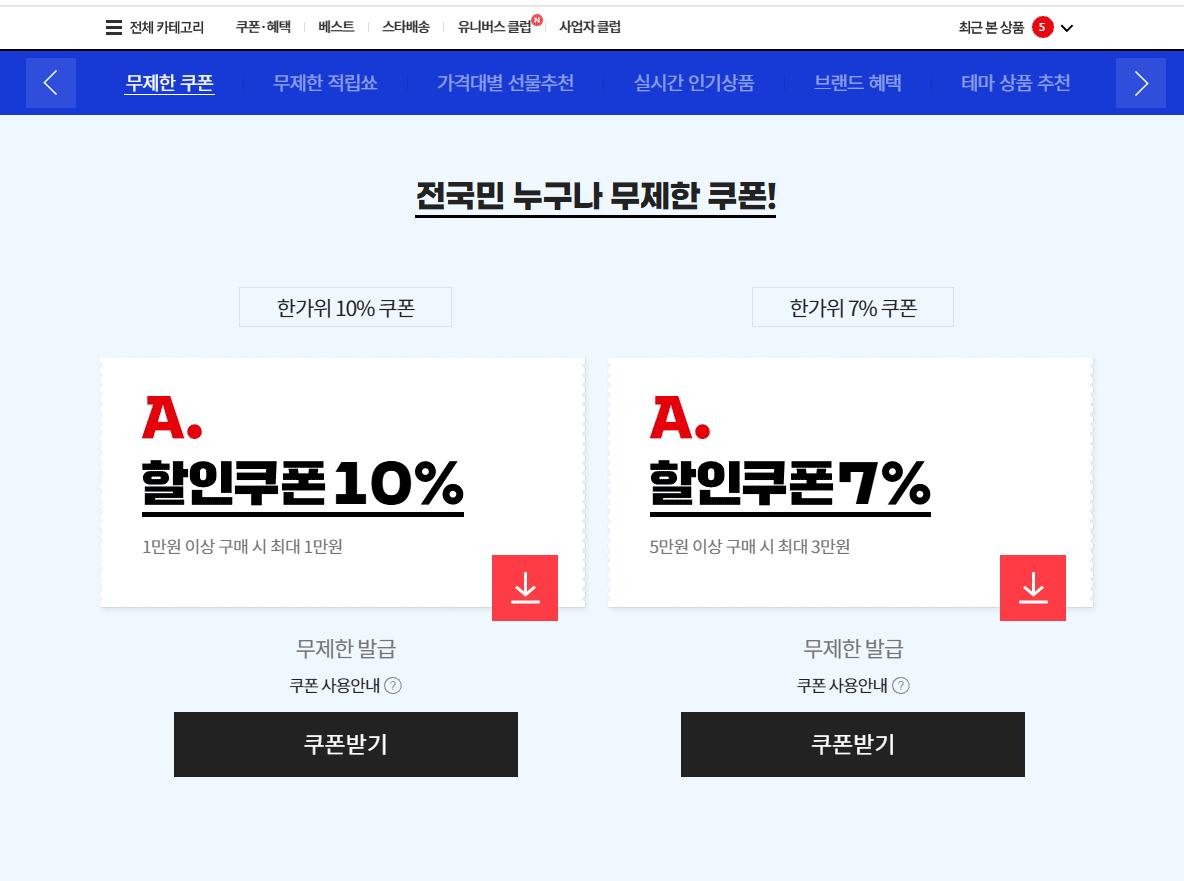button: (171, 712, 518, 778), (684, 713, 1030, 779), (423, 63, 594, 108), (624, 66, 775, 105), (954, 60, 1081, 103), (266, 64, 396, 105), (91, 3, 216, 45), (110, 66, 235, 108), (797, 67, 920, 105), (451, 7, 548, 45), (21, 54, 80, 109), (554, 6, 629, 49), (1114, 54, 1169, 106), (377, 7, 442, 42), (226, 13, 296, 44), (313, 10, 360, 44)
checkbox: (951, 4, 1086, 44)
popup: (77, 342, 596, 631), (603, 340, 1100, 627)
